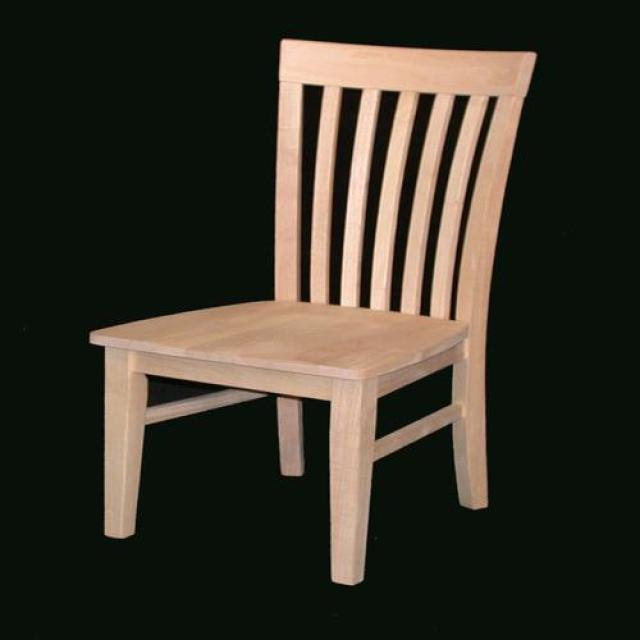chair: (90, 40, 539, 588)
